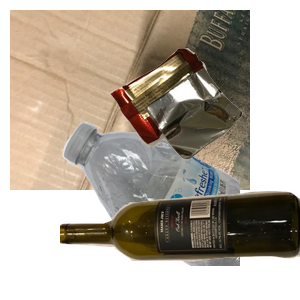cardboard: (10, 10, 250, 190)
glass: (60, 189, 300, 300)
plastic: (60, 120, 300, 300)
trash: (107, 46, 300, 198)
